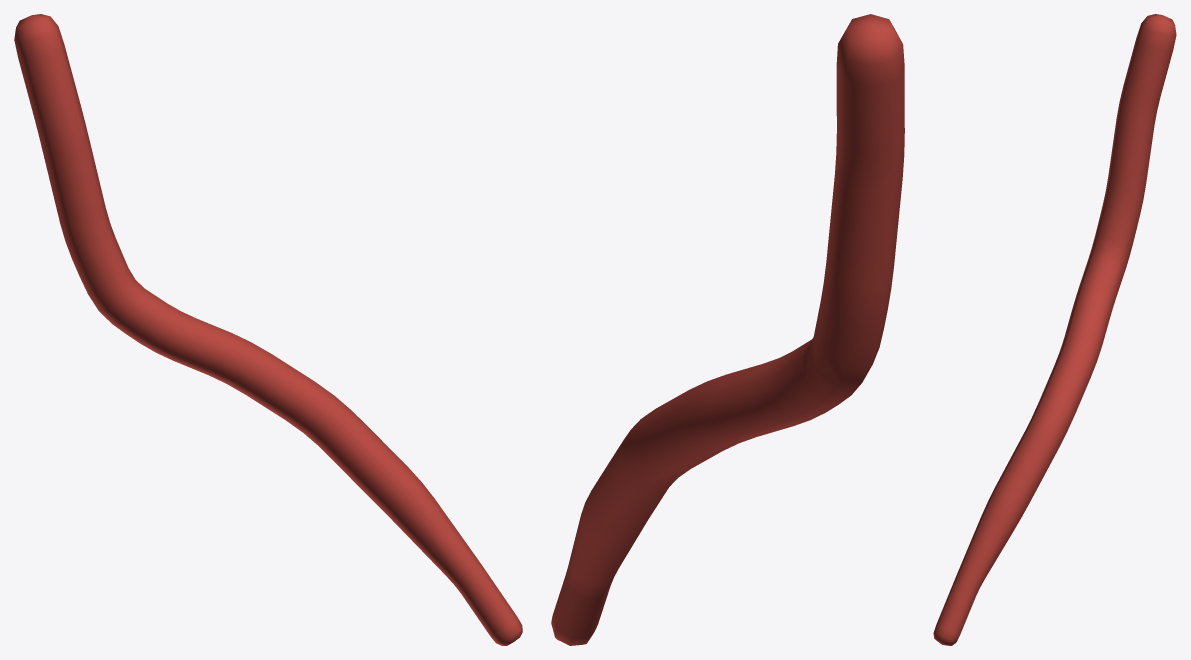
File: musculos-tendon-sheath-of-flexor-pollicis-longus-l.glb
3 views of the same model, side by side, from view 1: azimuth 30°, elevation 25°; view 2: azimuth 150°, elevation 25°; view 3: azimuth 270°, elevation 25° (orthographic). The views are drawn at different scales.
Visible parts, largest first — view 1: Tendon sheath of flexor pollicis longus.l; view 2: Tendon sheath of flexor pollicis longus.l; view 3: Tendon sheath of flexor pollicis longus.l.
Part boxes in pixels (bbox=[...]): Tendon sheath of flexor pollicis longus.l: bbox=[14, 14, 522, 645]; Tendon sheath of flexor pollicis longus.l: bbox=[551, 14, 904, 645]; Tendon sheath of flexor pollicis longus.l: bbox=[933, 14, 1176, 645].
Size of the model in its own units: 0.0544 by 0.0861 by 0.0383.
